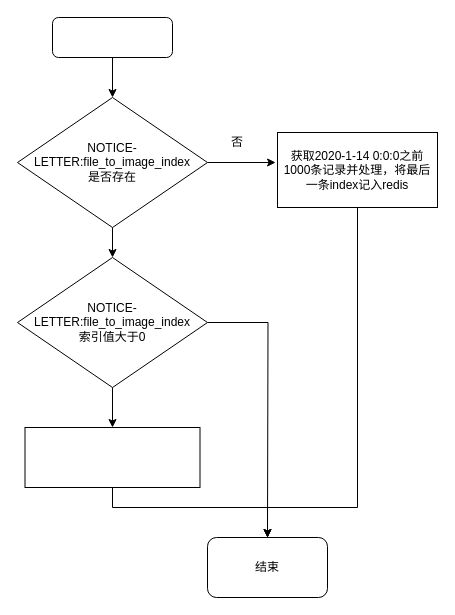
This 455x615 diagram has some shape labels left out. Here are the shapes that lost their labels. From the top down, the box of each, then its label:
(52, 16, 172, 58): 开始
(24, 426, 200, 488): 取出最近1000条数据进行处理，将最后一条index记入redis
